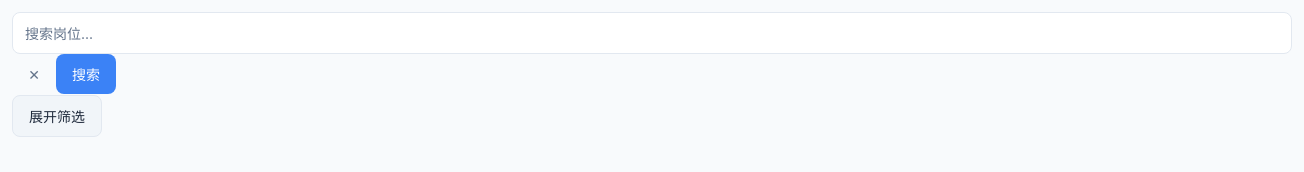
Test: SearchBar 组件 › 筛选器展开/收起 › 点击筛选器按钮应该切换展开/收起状态
This screenshot has width=1304, height=172.
Click the button "展开筛选" at {"x": 57, "y": 116}, box x1=12 y1=94 x2=102 y2=136
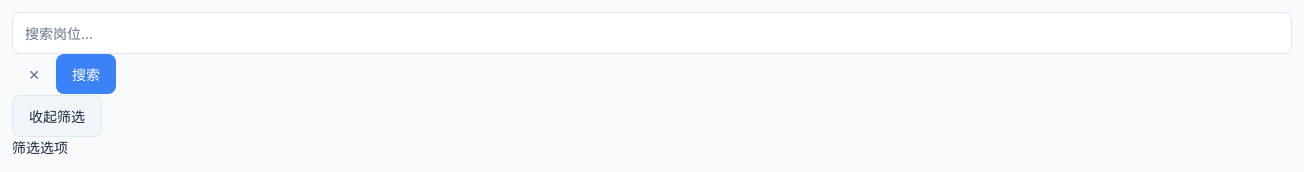
Check: the button "收起筛选" is expanded, box x1=12 y1=94 x2=102 y2=136
Check: the text "筛选选项" is shown, box x1=12 y1=138 x2=68 y2=156
